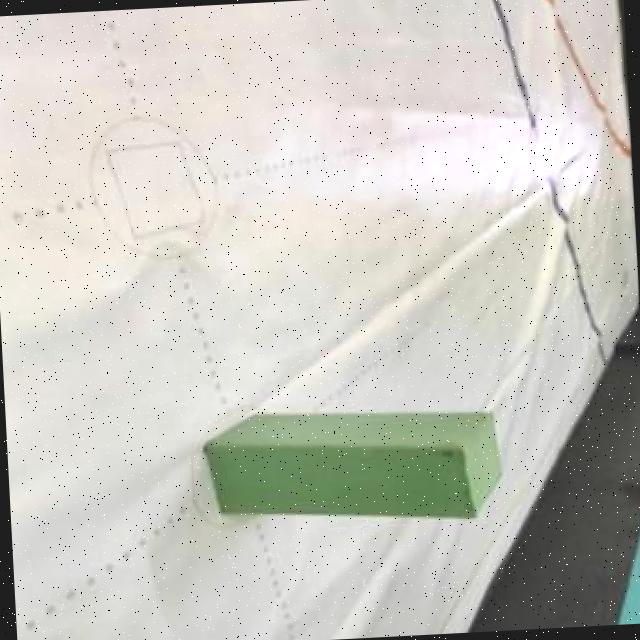greenbox: (198, 398, 508, 536)
